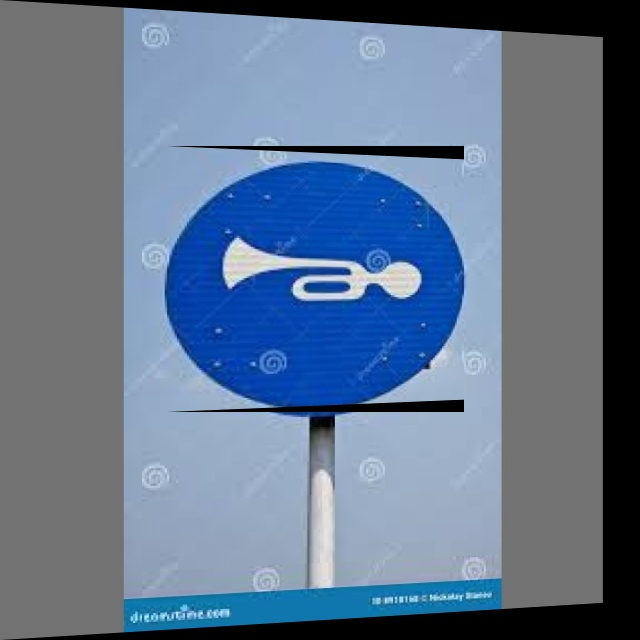Compulsory_Sound_Horn: (166, 146, 464, 412)
